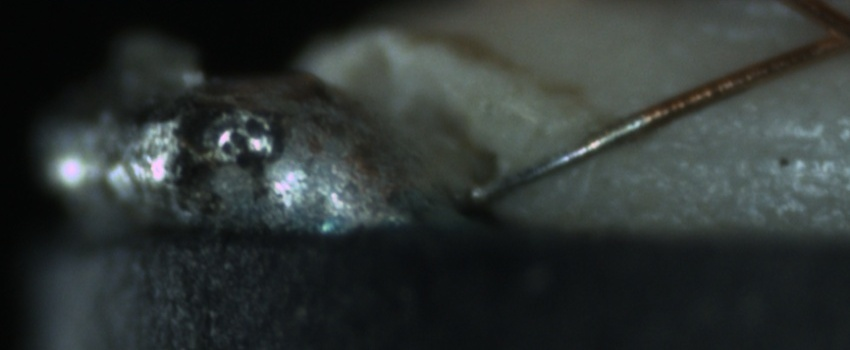CL: (795, 4, 850, 63)
DL: (631, 112, 850, 176)
TS: (470, 114, 649, 203)
